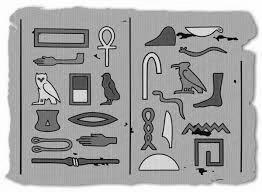Ankh: (96, 24, 120, 68)
Basket: (184, 25, 226, 38)
Mouth: (68, 112, 119, 128)
Owl: (31, 72, 62, 107)
Reed: (161, 109, 176, 150)
Water: (180, 121, 231, 137)
